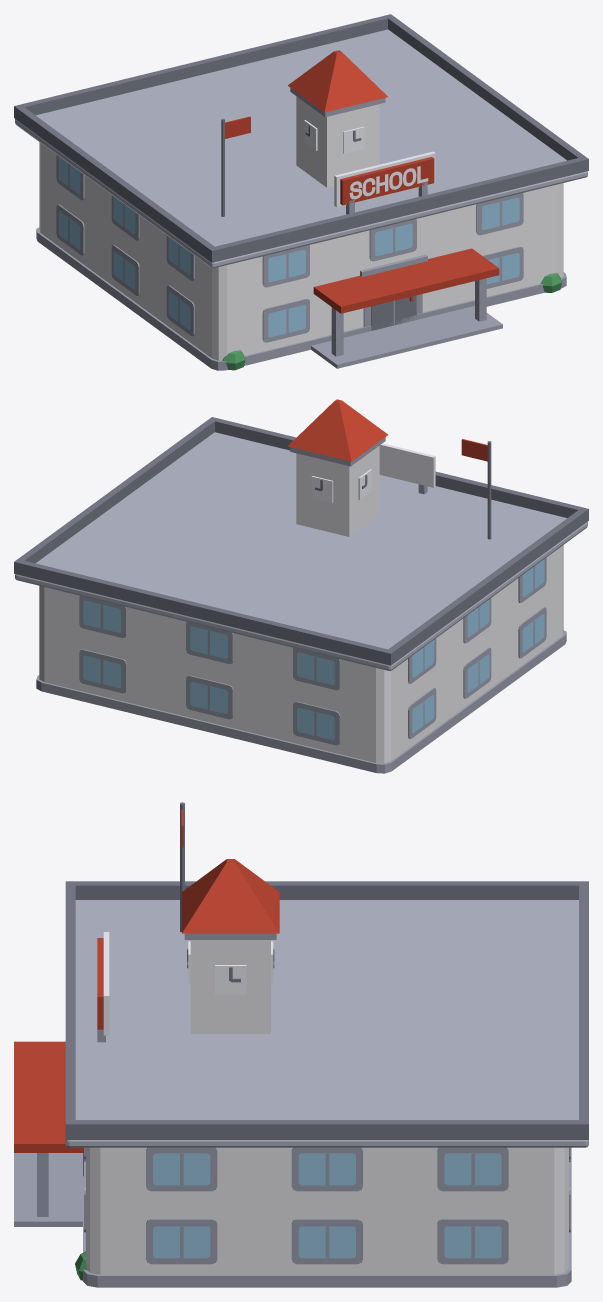
Rendered from school-2x2.glb.
3 renders of one model, top to bottom at view 1: azimuth 30°, elevation 25°; view 2: azimuth 150°, elevation 25°; view 3: azimuth 270°, elevation 25°, orthographic. The views are drawn at different scales.
Visible parts, largest first — view 1: school-2x2; view 2: school-2x2; view 3: school-2x2.
Boxes of the visible parts, bbox=[...] form: school-2x2: bbox=[14, 14, 588, 370]; school-2x2: bbox=[14, 399, 588, 773]; school-2x2: bbox=[14, 802, 588, 1287].
Bounding box in the file's own units: 2 × 1.2 × 2.
Materials: 1 (1 with a texture image).
